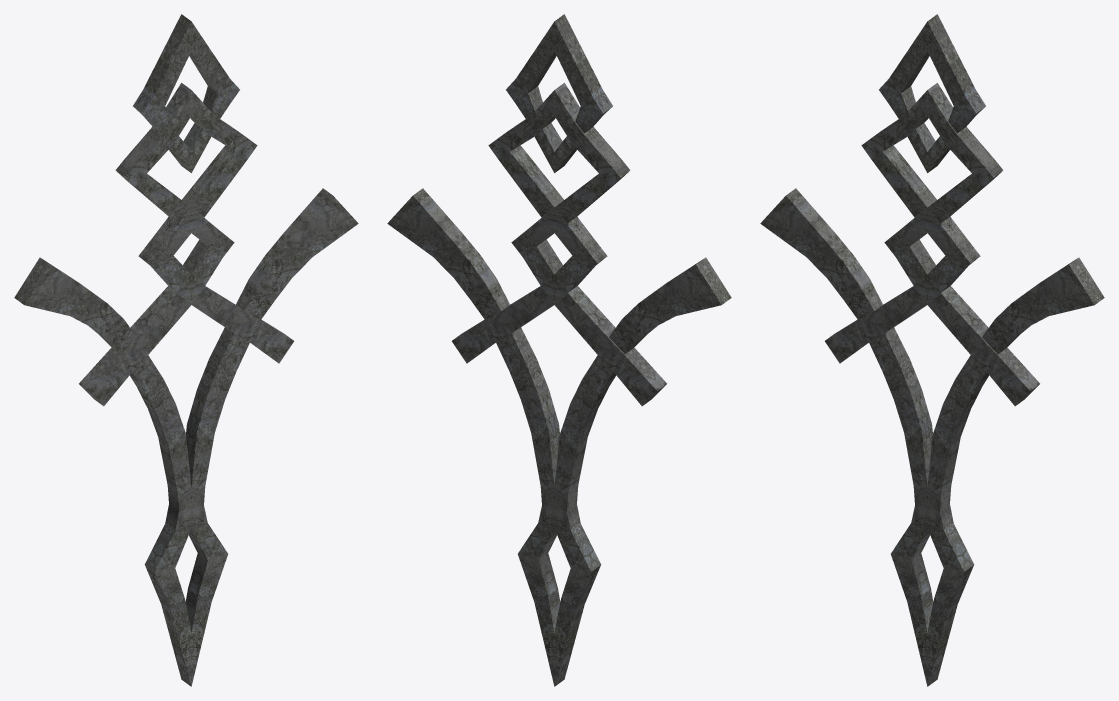
File: materials_3_emblem_0.fbx
The picture shows the model from 3 angles, left to right: view 1: azimuth 30°, elevation 25°; view 2: azimuth 150°, elevation 25°; view 3: azimuth 330°, elevation 25°; orthographic projection.
Parts seen in each view (by area): view 1: materials_3_emblem_0; view 2: materials_3_emblem_0; view 3: materials_3_emblem_0.
Boxes of the visible parts, box(x1,y1,x2,y2) form: materials_3_emblem_0: box(14, 14, 358, 686); materials_3_emblem_0: box(387, 14, 731, 686); materials_3_emblem_0: box(760, 14, 1104, 686).
Size of the model in its own units: 53.1 by 101 by 2.77.
